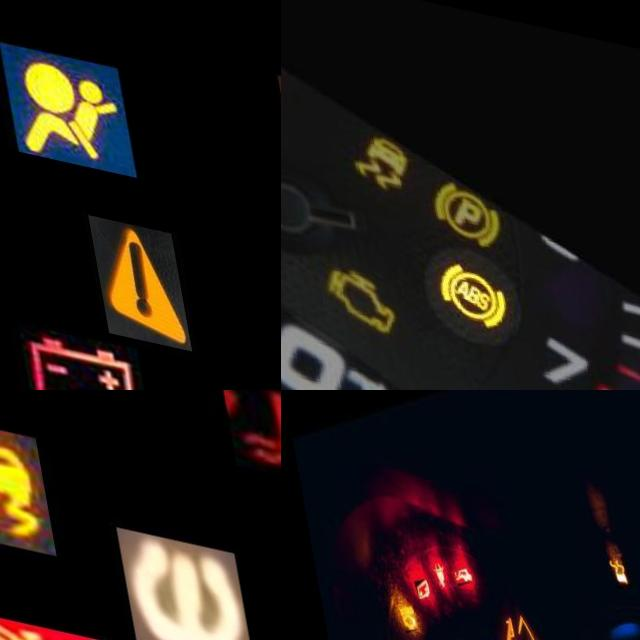Central Warning lamp: (81, 210, 180, 342)
Engine cooling system: (217, 390, 281, 462)
